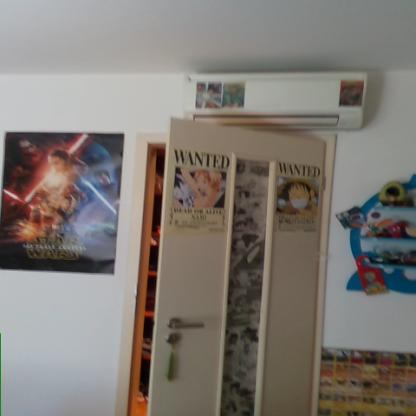semi: (131, 117, 345, 416)
